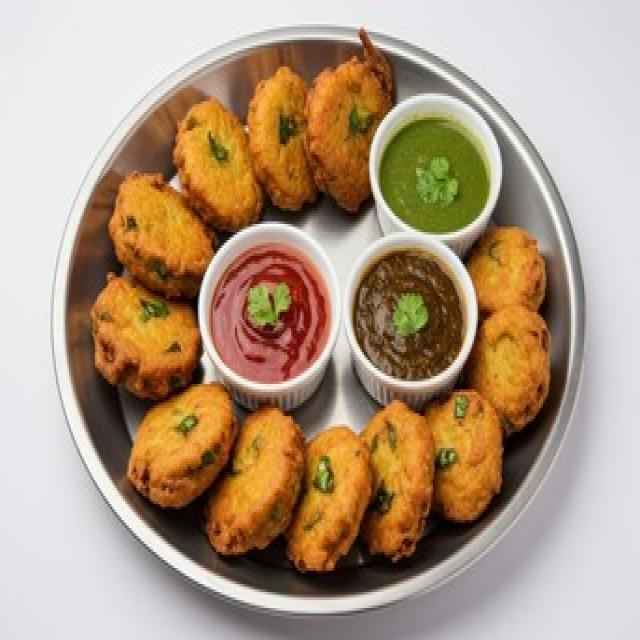GREEN CHUTNEY: (348, 248, 477, 396), (382, 111, 502, 235)
SAUCE: (196, 235, 342, 378)
VADA: (91, 32, 571, 584)
